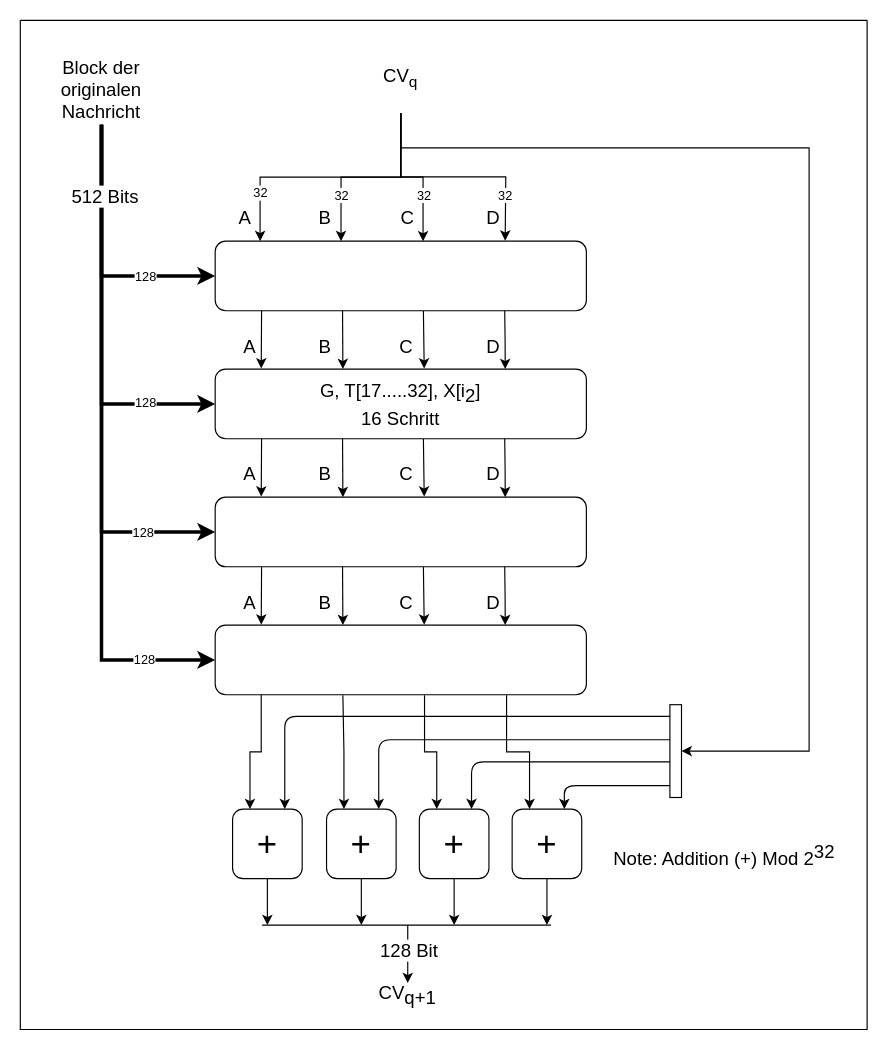
Some shapes in this 887 by 1050 pixel diagram are drawn without their labels. The shapes that lost their labels are listed below. From the top down, each one's centre as x and y in pixels, then its label:
At point (400, 275): "F, T[1.....16], X[i 1 ] 16 Schritt".
At point (400, 531): "H, T[33.....48], X[i 3 ] 16 Schritt".
At point (400, 659): "I, T[49.....64], X[i 4 ] 16 Schritt".
